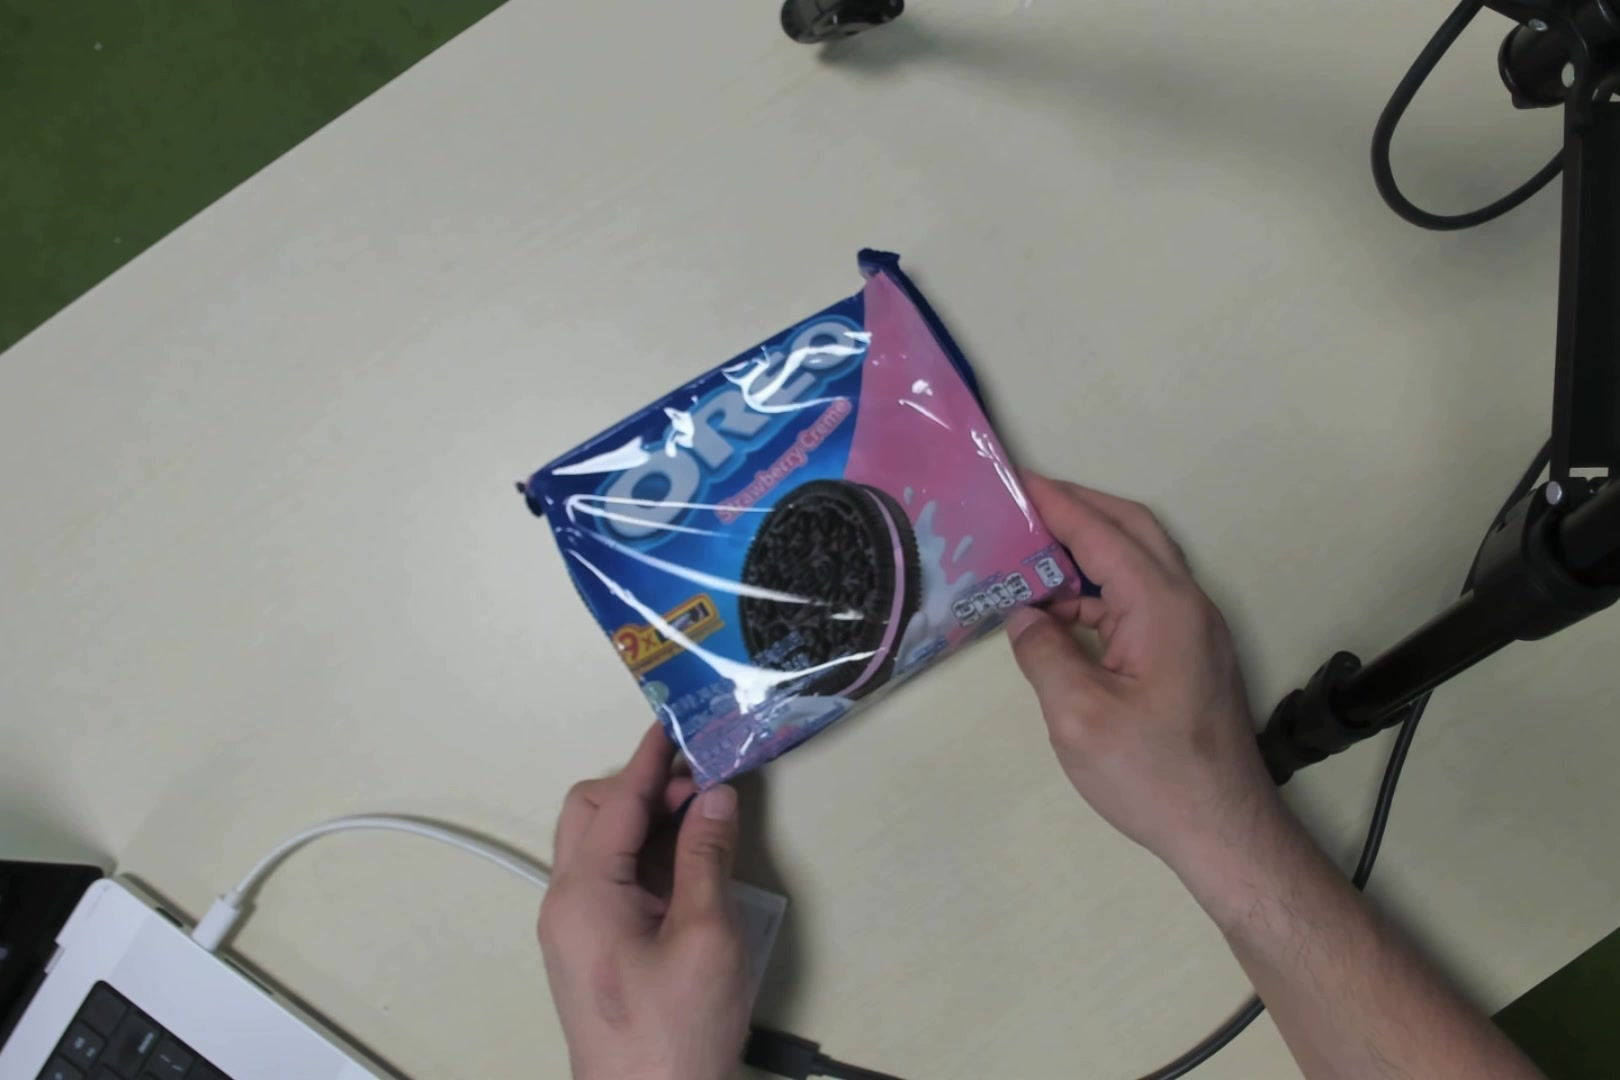SweetsChocolatesOthers_200-299g_Halal_NonHealthy: (573, 278, 1031, 788)
